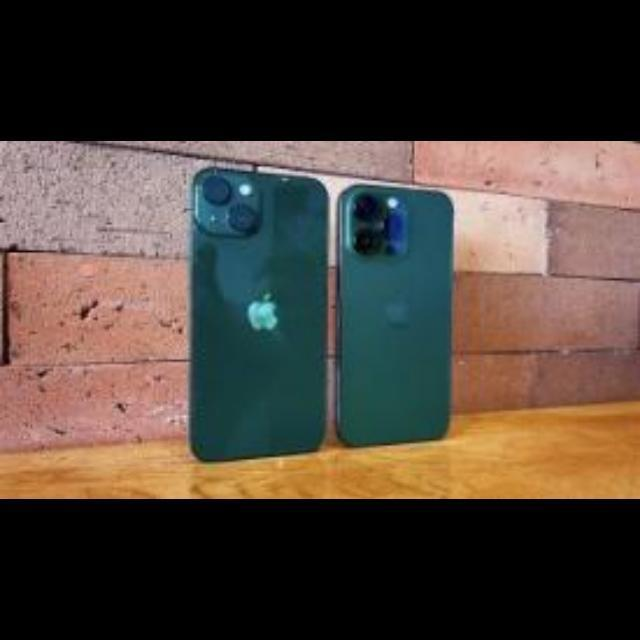PhoneUse: (192, 170, 324, 462), (336, 184, 460, 448)
